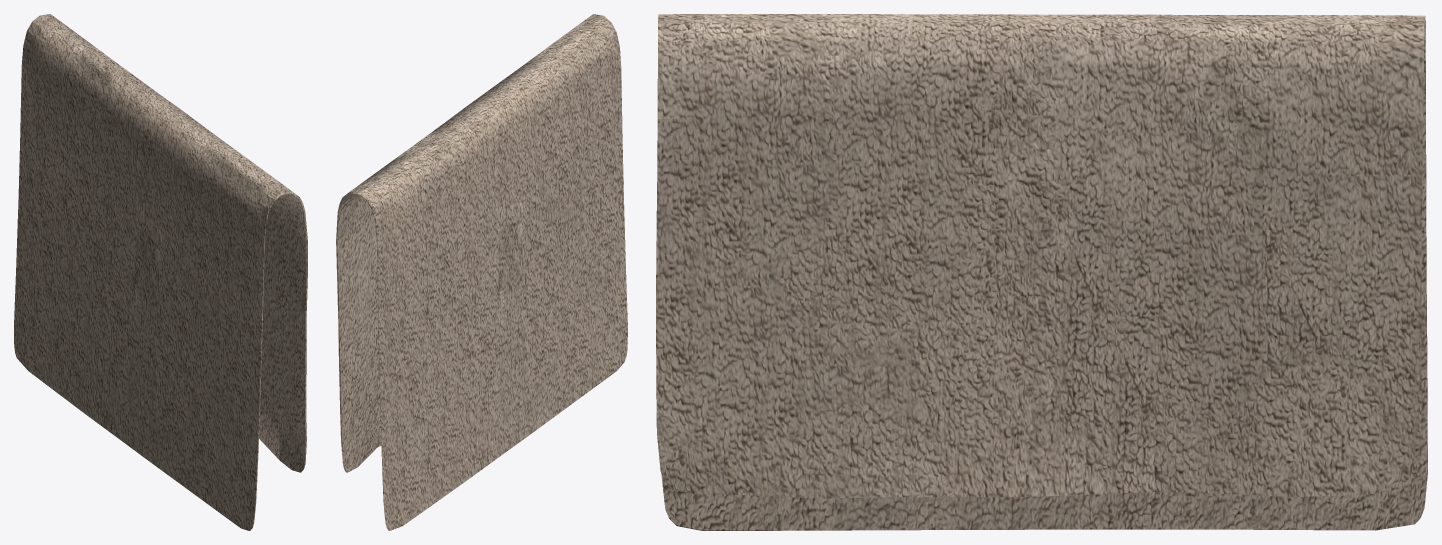
The model's file is Towel.fbx.
The picture shows the model from 3 angles, left to right: view 1: azimuth 30°, elevation 25°; view 2: azimuth 150°, elevation 25°; view 3: azimuth 270°, elevation 25°; orthographic projection. The views are drawn at different scales.
Visible parts, largest first — view 1: Towel; view 2: Towel; view 3: Towel.
Boxes of the visible parts, box(x1,y1,x2,y2) form: Towel: box(14, 14, 307, 530); Towel: box(336, 14, 627, 530); Towel: box(656, 14, 1427, 530).
Bounding box in the file's own units: 0.0712 × 0.3942 × 0.5138.
1 material, 1 textured.
